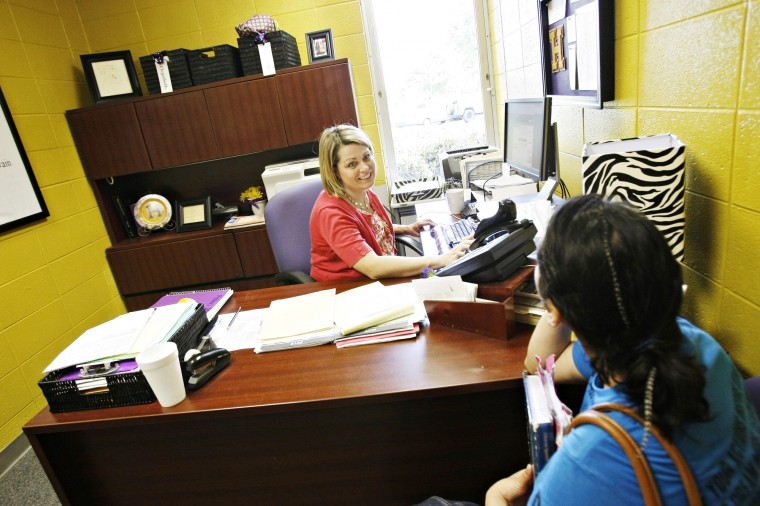Person: (546, 205, 750, 497), (294, 131, 464, 275)
